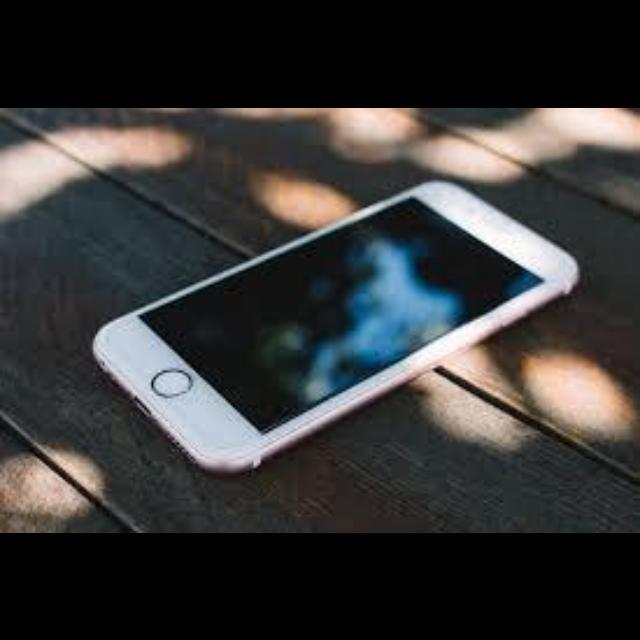phone: (91, 132, 593, 496)
